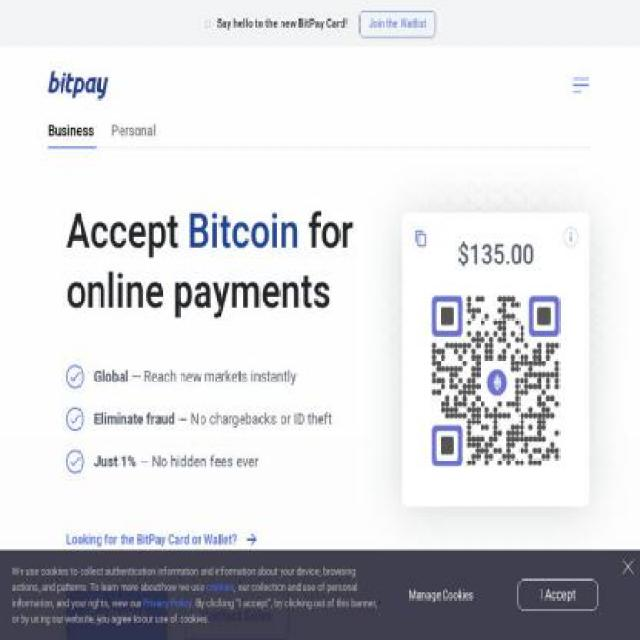button: (66, 530, 394, 552), (185, 590, 290, 639), (66, 590, 169, 639), (48, 66, 123, 103), (358, 10, 436, 38), (48, 120, 95, 148), (557, 68, 592, 101), (142, 594, 195, 612), (618, 556, 638, 578)
